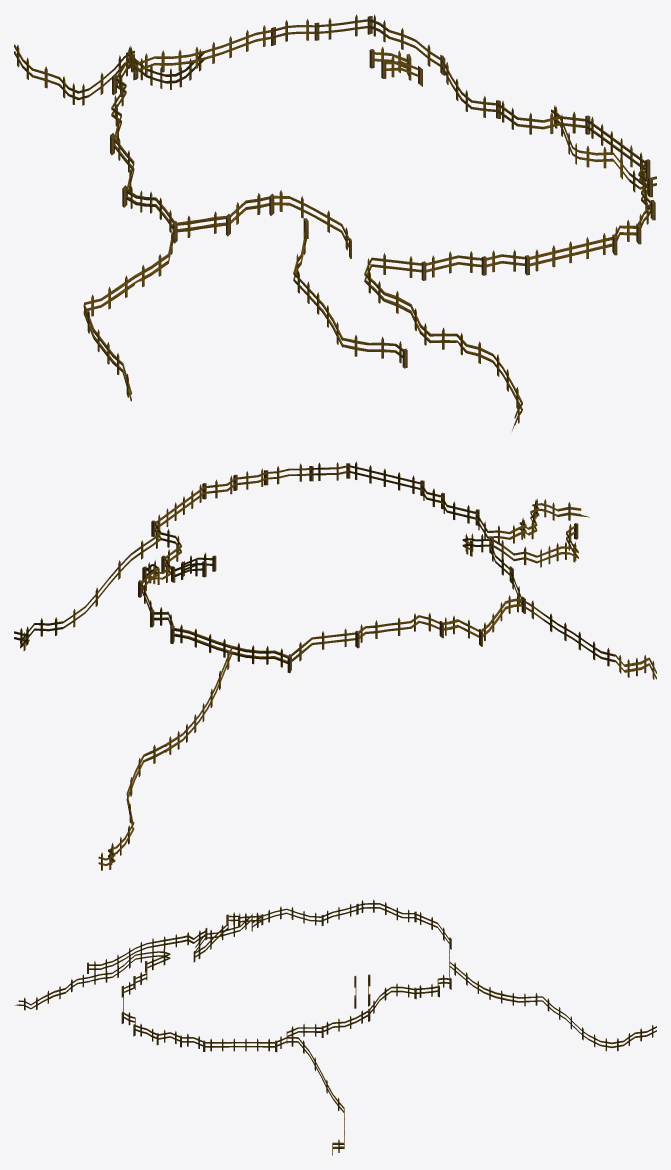
Rendered from SM_TutorialIsland_Fence.fbx.
3 views of the same model, one above another, from view 1: azimuth 30°, elevation 25°; view 2: azimuth 150°, elevation 25°; view 3: azimuth 270°, elevation 25° (orthographic). The views are drawn at different scales.
Parts seen in each view (by area): view 1: Object012; view 2: Object012; view 3: Object012.
Boxes of the visible parts, left/top/right/bottom form: Object012: left=14, top=14, right=656, bottom=430; Object012: left=14, top=461, right=656, bottom=870; Object012: left=15, top=899, right=656, bottom=1155.
Size of the model in its own units: 3806 by 1056 by 5533.
